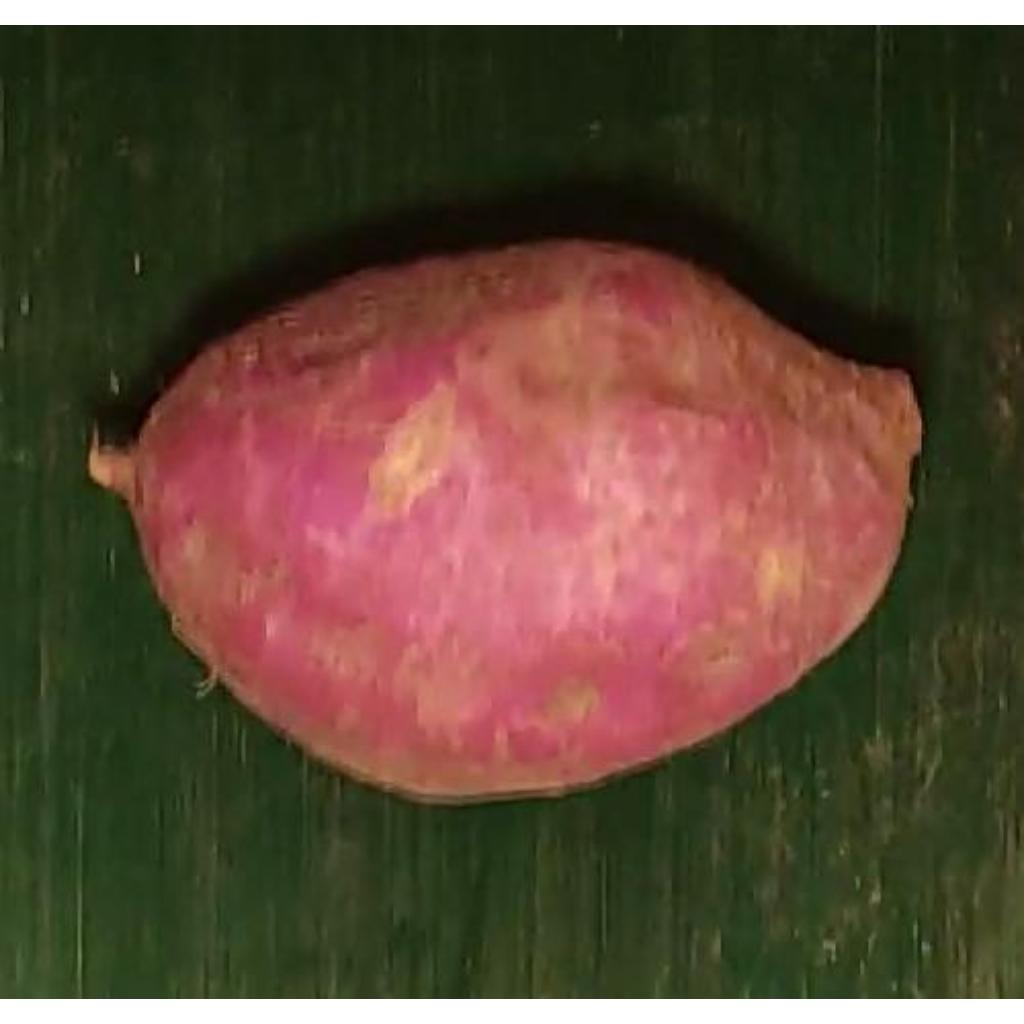Sweet Potato: (88, 240, 926, 803)
